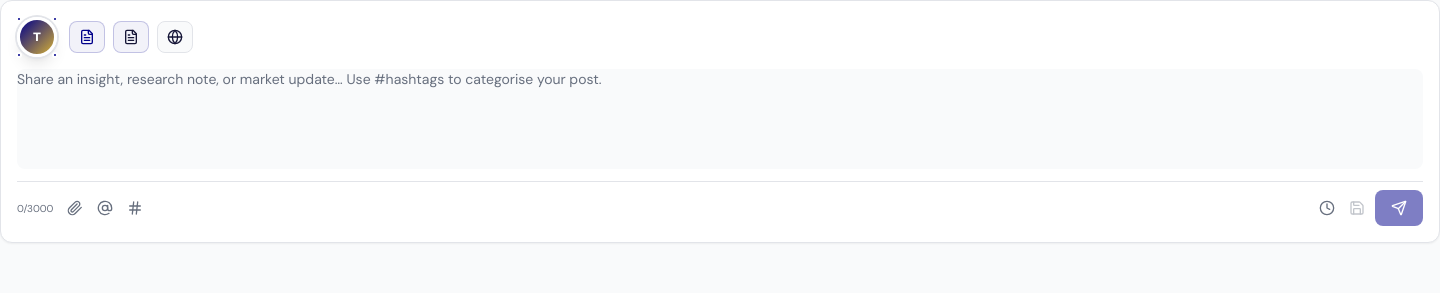
Test: CreatePostComposer Integration › extracts hashtags from content
In the text box with placeholder "Share an insight": (720, 119) left=17, top=69, right=1423, bottom=169, type "Great day for #markets and #investing"
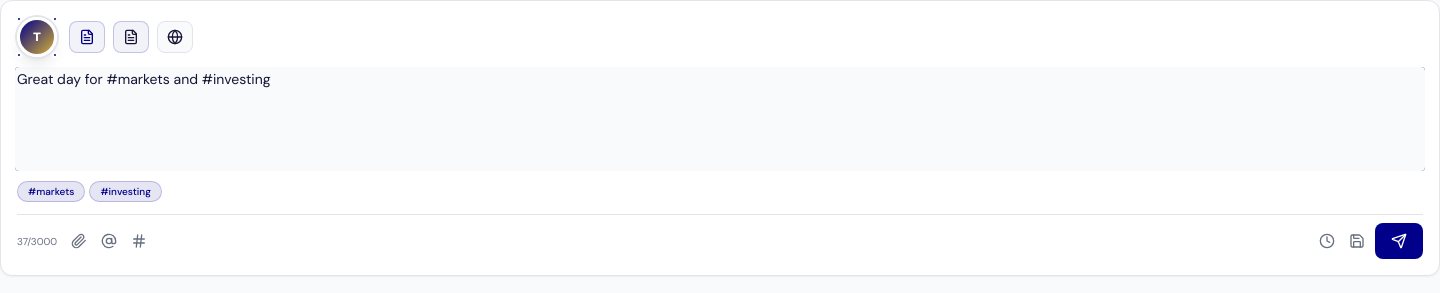
Check: the text "markets" is shown, box left=36, top=185, right=74, bottom=198
Check: the text "investing" is shown, box left=109, top=185, right=151, bottom=198
